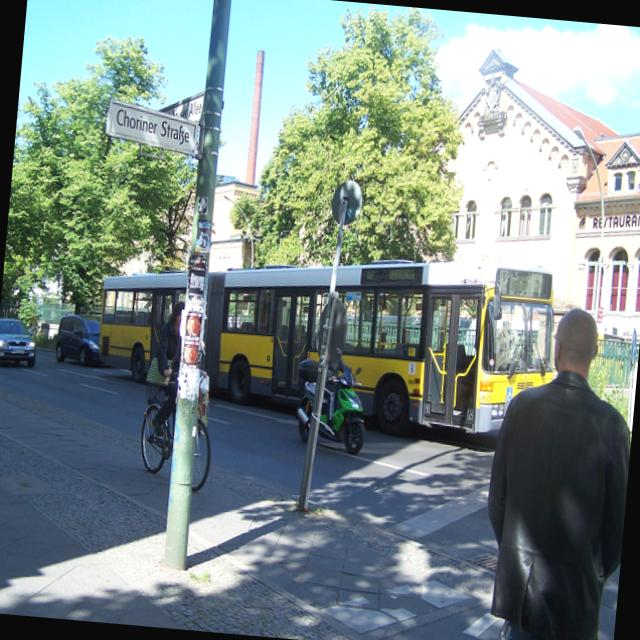Vehicle: (90, 220, 562, 443), (290, 358, 372, 454), (53, 311, 105, 368), (0, 313, 38, 367)
